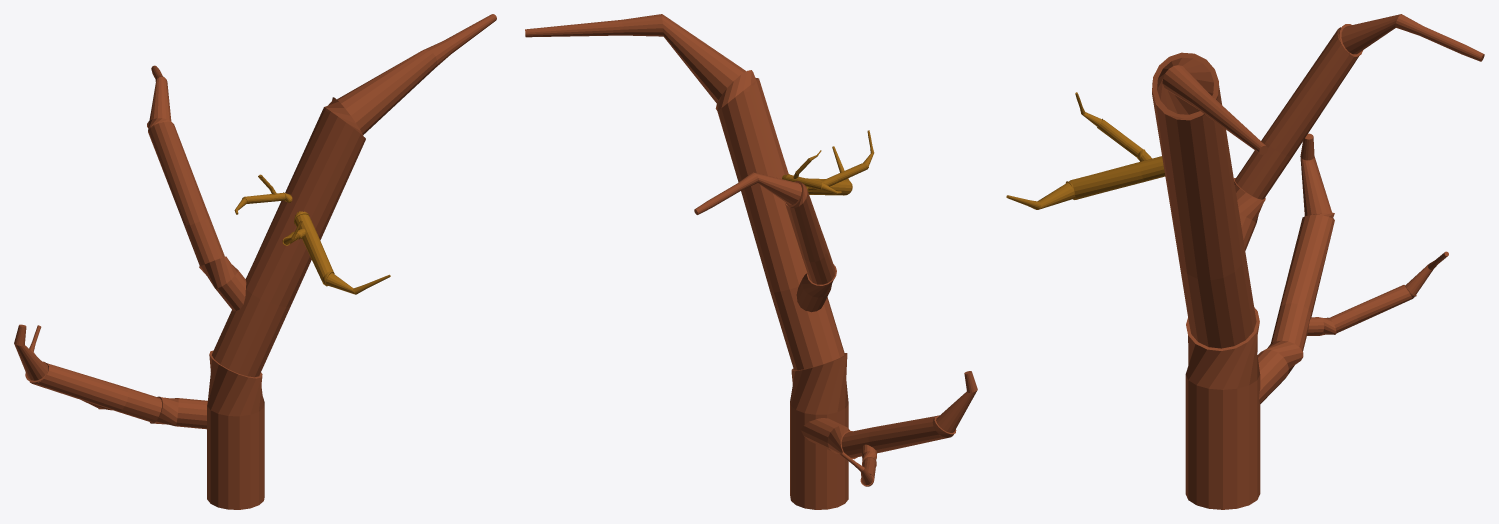
File: Ramollino_Tomas_48792652.fbx
3 views of the same model, side by side, from view 1: azimuth 30°, elevation 25°; view 2: azimuth 150°, elevation 25°; view 3: azimuth 270°, elevation 25° (orthographic). The views are drawn at different scales.
Parts seen in each view (by area): view 1: Cylinder.001; view 2: Cylinder.001; view 3: Cylinder.001.
Part boxes in pixels (x1,y1,x2,y2): Cylinder.001: (14,14,496,509); Cylinder.001: (525,14,977,509); Cylinder.001: (1006,14,1484,509).
Size of the model in its own units: 1840 by 1589 by 1282.
